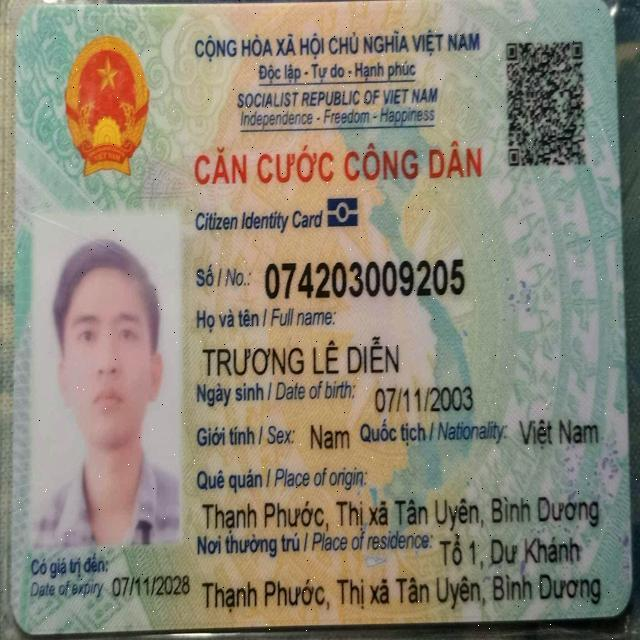current_place: (198, 569, 604, 618), (437, 530, 582, 574)
dob: (371, 381, 477, 417)
expire_date: (109, 568, 192, 604)
gender: (309, 419, 352, 455)
id: (260, 252, 469, 304)
name: (199, 333, 402, 382)
nationality: (516, 415, 602, 455)
origin_place: (198, 491, 603, 537)
qr: (502, 35, 590, 174)
